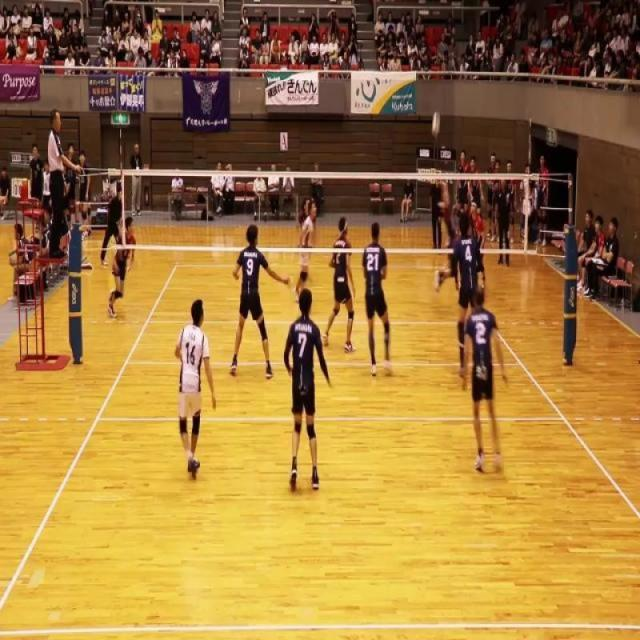volleyball: (432, 110, 441, 140)
